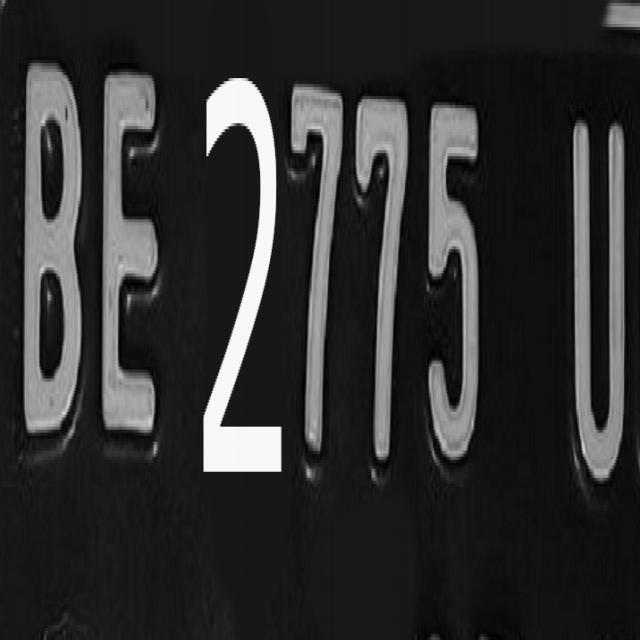2: (195, 55, 298, 500)
5: (418, 93, 488, 476)
7: (351, 88, 418, 490), (293, 70, 345, 474)
B: (15, 57, 96, 460)
E: (94, 62, 170, 452)
U: (563, 110, 640, 500)
